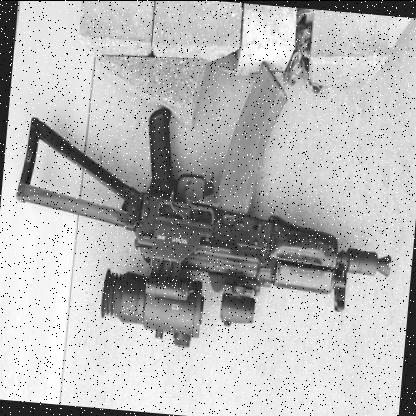rifle: (1, 51, 406, 380)
